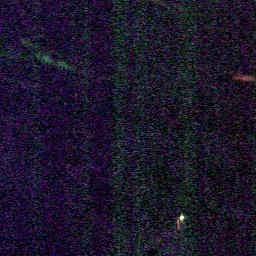Ship: (175, 210, 189, 227)
